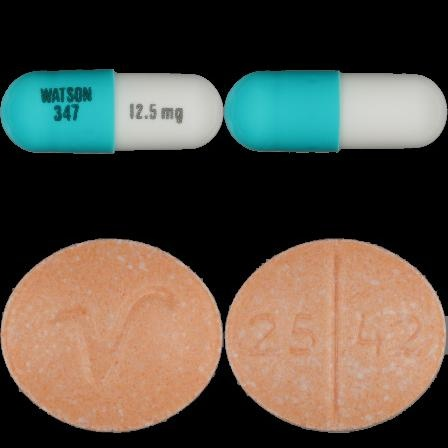10544-198: (0, 0, 224, 224)
